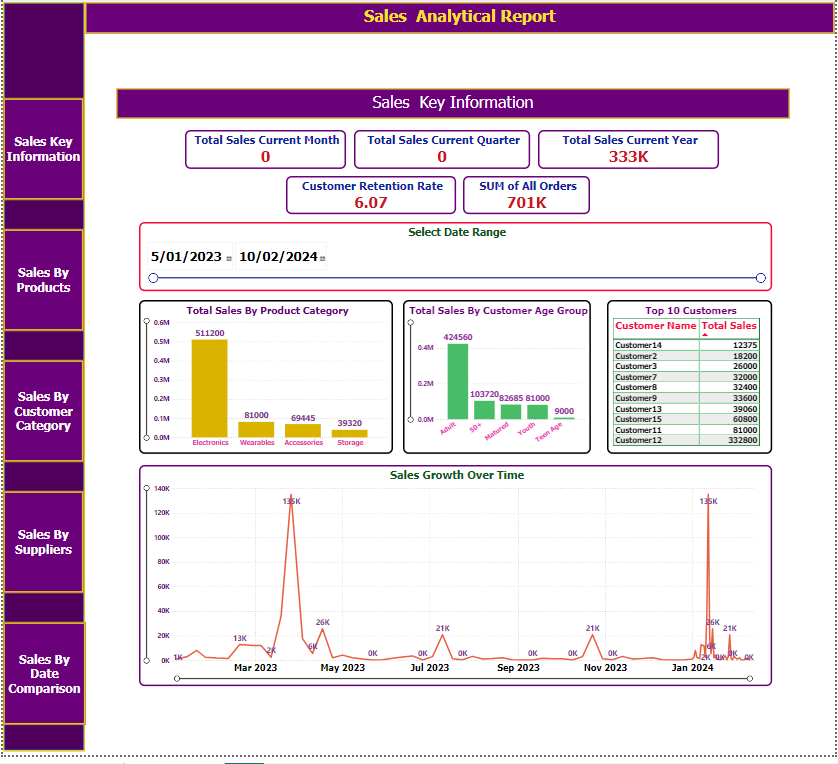

The dashboard page shown, as its layout file describes it:
{"tool":"powerbi","page":{"name":"DashBoard","canvas":[2200,2000],"ordinal":0},"visuals":[{"type":"shape","box":[0,7,217.2,1982.8],"z":0},{"type":"card","title":"Total Sales Current Month","fields":{"Values":["Orders.Total_Sales_CurrentMonth"]},"box":[481.4,346.5,425.9,103.2],"z":0,"group":"g1"},{"type":"actionButton","box":[0,262.7,213.7,269.7],"z":1000},{"type":"card","title":"SUM of All Orders","fields":{"Values":["Orders.SUM_ALL_ORDERS"]},"box":[1216.9,468.2,336,100.5],"z":1000,"group":"g1"},{"type":"textbox","box":[217.2,7,1982.8,84.1],"z":2000},{"type":"card","title":"Total Sales Current Year","fields":{"Values":["Orders.Total_Sales_CurrentYear"]},"box":[1415.3,346.5,478.8,103.2],"z":2000,"group":"g1"},{"type":"card","title":"Total Sales Current Quarter","fields":{"Values":["Orders.Total_Sales_CurrentQuarter"]},"box":[928.5,346.5,465.6,103.2],"z":3000,"group":"g1"},{"type":"actionButton","box":[0,609.3,213.7,269.7],"z":3000},{"type":"textbox","box":[298.9,235.4,1783.1,82],"z":4000,"group":"g1"},{"type":"actionButton","box":[0,956,213.7,269.7],"z":4000},{"type":"columnChart","title":"Total Sales By Product Category","fields":{"Category":["Products.ProductCategory"],"Y":["Products.Total_Sales_By_Category_DateRange"]},"box":[359.7,796.2,672,407.4],"z":5000,"group":"g1"},{"type":"actionButton","box":[0,1302.6,213.7,269.7],"z":5000},{"type":"slicer","title":"Select Date Range","fields":{"Values":["DateTable.Date"]},"box":[359.7,589.9,1674.6,182.5],"z":6000,"group":"g1"},{"type":"group","id":"g1","title":"Group Key Information","box":[298.9,235.4,1783.1,1582],"z":7000},{"type":"columnChart","title":"Total Sales  By Customer Age Group","fields":{"Category":["Customer.Customer_AgeGroup"],"Y":["Customer.Total_Sales_By_Age_Group"]},"box":[1058.2,796.2,497.4,407.4],"z":7000,"group":"g1"},{"type":"card","title":"Customer Retention Rate","fields":{"Values":["Orders.Customer_Retention_Rate"]},"box":[748.6,468.2,449.7,100.5],"z":8000,"group":"g1"},{"type":"tableEx","title":"Top 10 Customers","fields":{"Values":["Top_10_Customers_By_Sales.CustomerName","Sum(Top_10_Customers_By_Sales.TotalSales)"]},"box":[1597.8,796.2,436.5,407.4],"z":9000,"group":"g1"},{"type":"lineChart","title":"Sales Growth Over Time","fields":{"Y":["Orders.Sales_Growth"],"Category":["DateTable.Date.Variation.Date Hierarchy.Year","DateTable.Date.Variation.Date Hierarchy.Quarter","DateTable.Date.Variation.Date Hierarchy.Month","DateTable.Date.Variation.Date Hierarchy.Day"]},"box":[359.7,1232.8,1674.6,584.7],"z":10000,"group":"g1"},{"type":"actionButton","box":[0,1649.2,219,272.1],"z":12000}]}

Visuals, with their boxes in screenshot pixels (x1, y1, x2, y2), scaled from the page's 2200x2000 canvas onto the 838x764 screenshot:
shape: rect(0, 3, 83, 760)
"Total Sales Current Month" card: rect(183, 132, 346, 172)
actionButton: rect(0, 100, 81, 203)
"SUM of All Orders" card: rect(464, 179, 592, 217)
textbox: rect(83, 3, 837, 35)
"Total Sales Current Year" card: rect(539, 132, 721, 172)
"Total Sales Current Quarter" card: rect(354, 132, 531, 172)
actionButton: rect(0, 233, 81, 336)
textbox: rect(114, 90, 793, 121)
actionButton: rect(0, 365, 81, 468)
"Total Sales By Product Category" columnChart: rect(137, 304, 393, 460)
actionButton: rect(0, 498, 81, 601)
"Select Date Range" slicer: rect(137, 225, 775, 295)
"Group Key Information" group: rect(114, 90, 793, 694)
"Total Sales  By Customer Age Group" columnChart: rect(403, 304, 593, 460)
"Customer Retention Rate" card: rect(285, 179, 456, 217)
"Top 10 Customers" tableEx: rect(609, 304, 775, 460)
"Sales Growth Over Time" lineChart: rect(137, 471, 775, 694)
actionButton: rect(0, 630, 83, 734)
